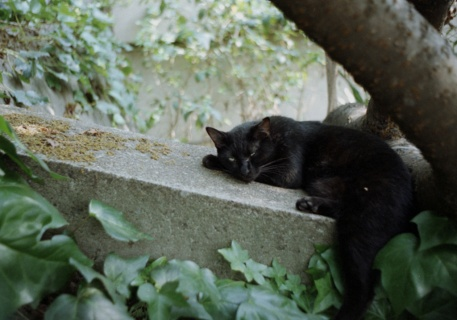Cat: (202, 111, 414, 319)
